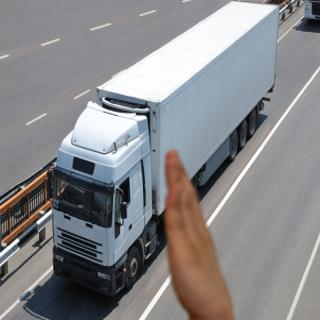RIGHT: (157, 142, 236, 320)
